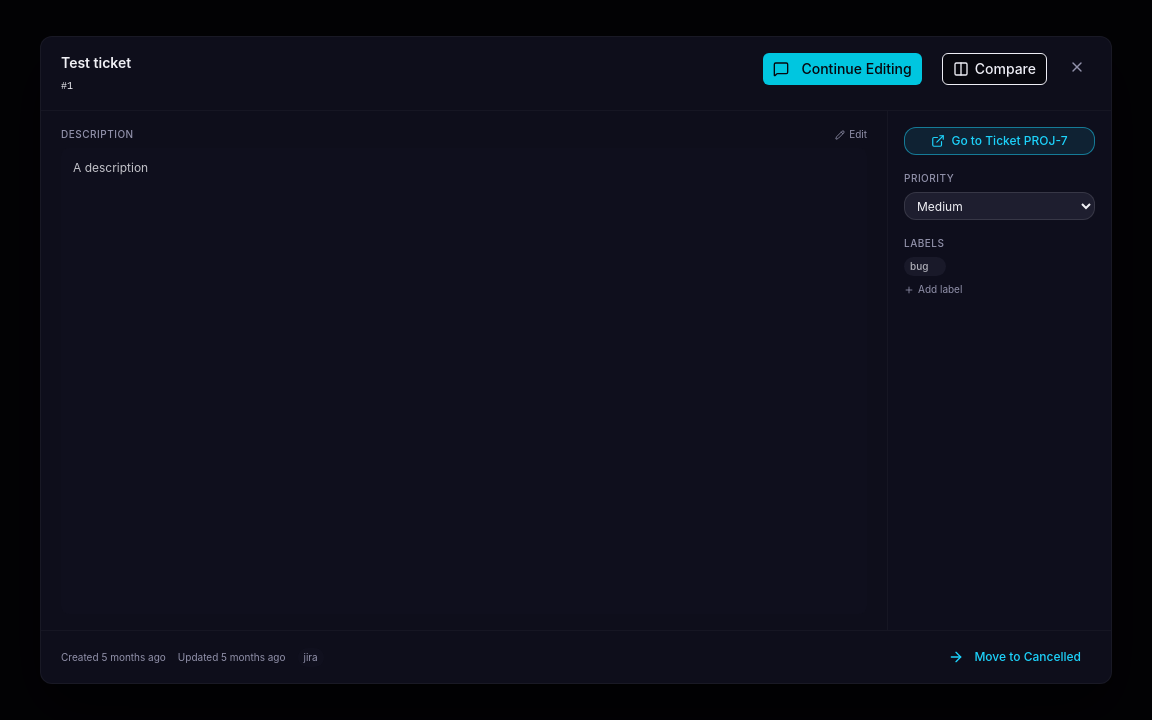
Test: TicketDetailModal — Jira discard ("Move to <status>") › when connected with a discard status on a Jira-backed spec › opens the discard dialog when the Move-to button is clicked
Click the button with test id "jira-move-to-button" at {"x": 1015, "y": 657}, box [938,643,1091,671]
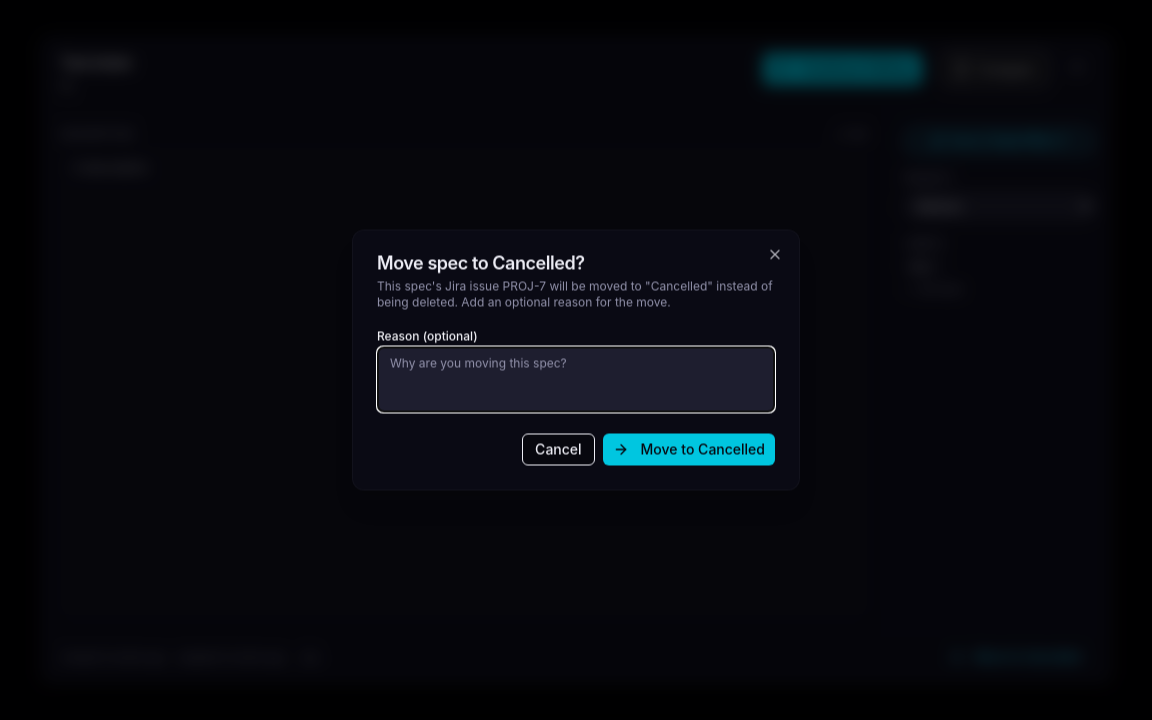
Check: the dialog with test id "jira-discard-dialog" is shown, box [352,230,800,490]
